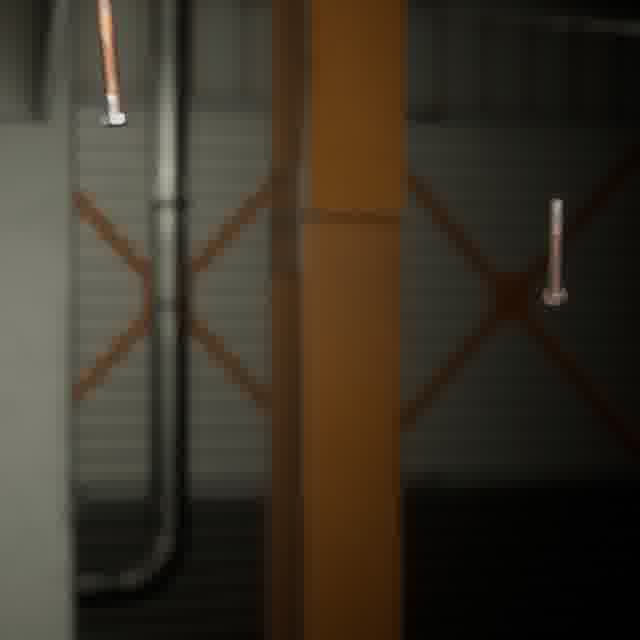bolt: (90, 0, 134, 131), (538, 193, 572, 310)
